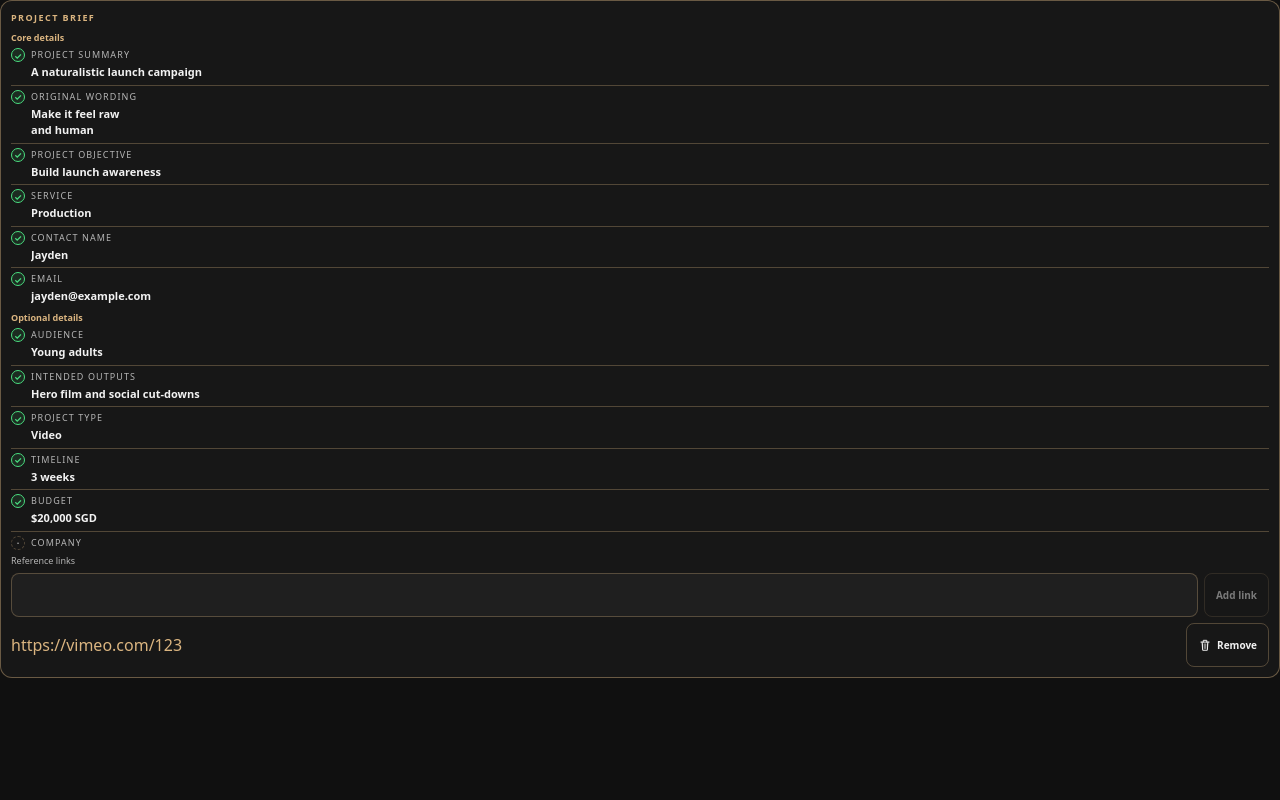
Test: ProjectBriefCard › adds and removes private reference links inline with visible errors
In the field named "Reference URL": [604, 595] box left=11, top=573, right=1198, bottom=617, type "https://example.com/board"
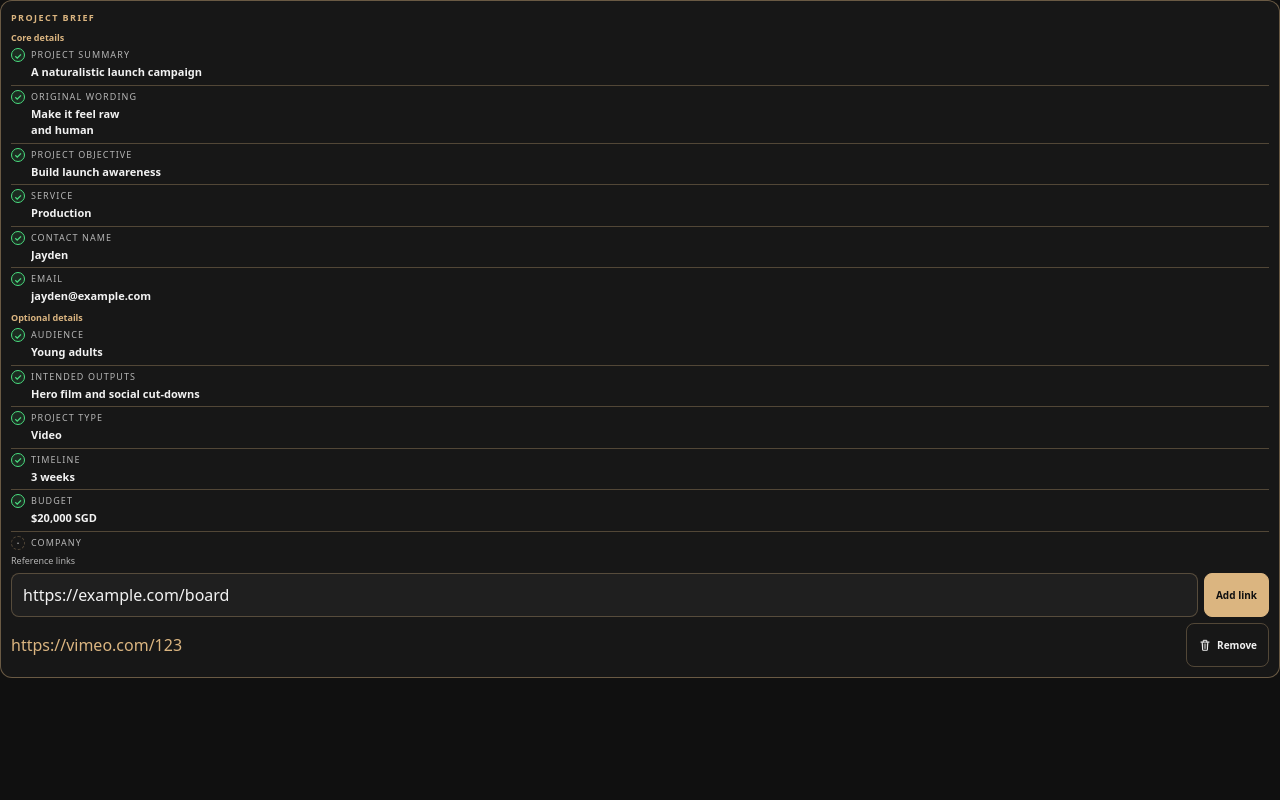
Click the button "Add link": [1236, 595] box left=1204, top=573, right=1269, bottom=617
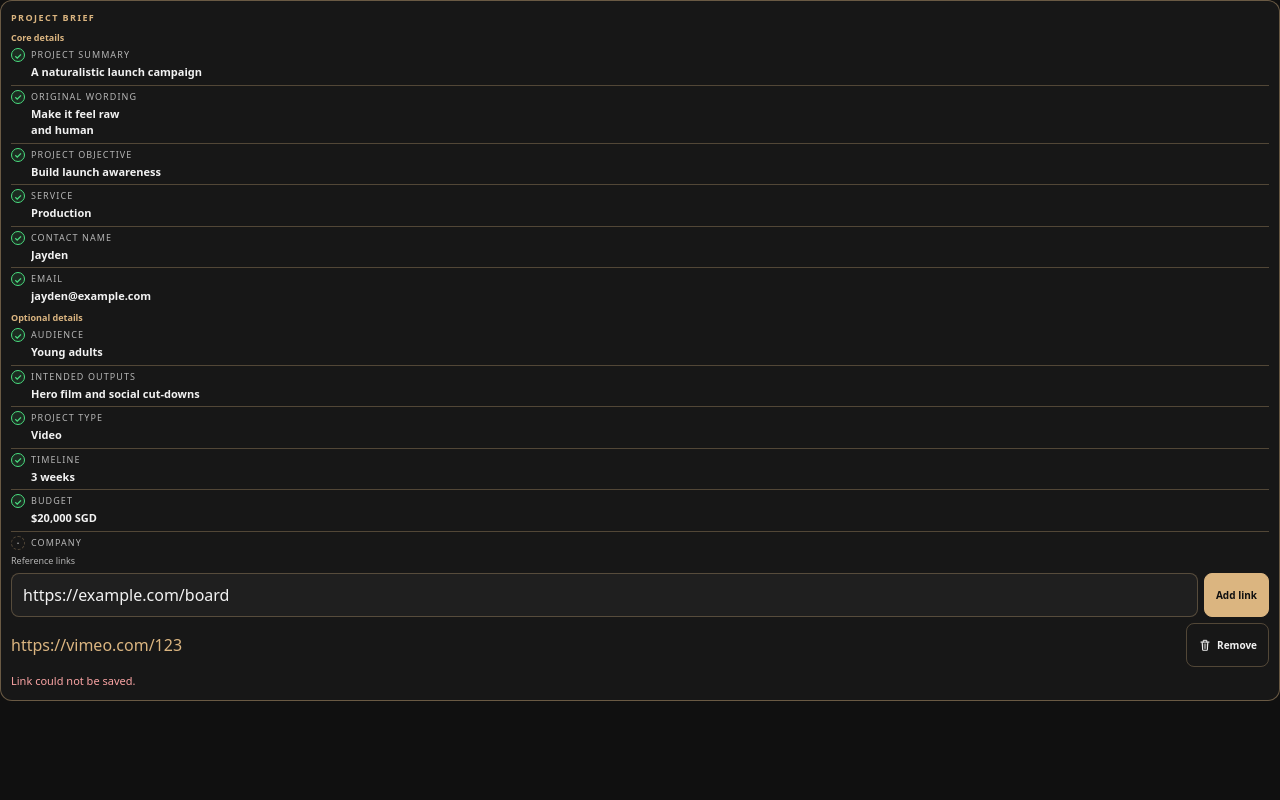
Expected: the message reads "Link could not be saved.", left=11, top=673, right=135, bottom=688
Click the button with aria-label "Remove https://vimeo.com/123": [1228, 645] box left=1186, top=623, right=1269, bottom=667
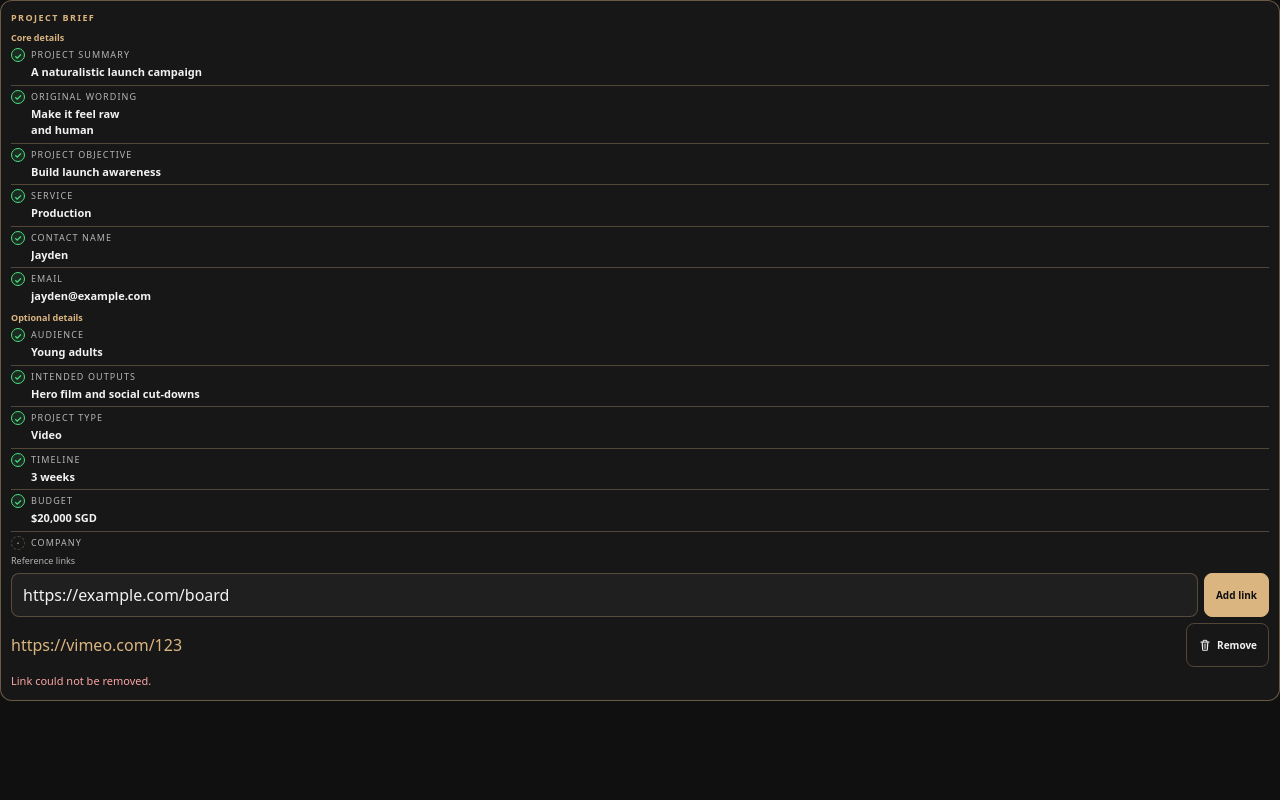
Expected: the message reads "Link could not be removed.", left=11, top=673, right=151, bottom=688
